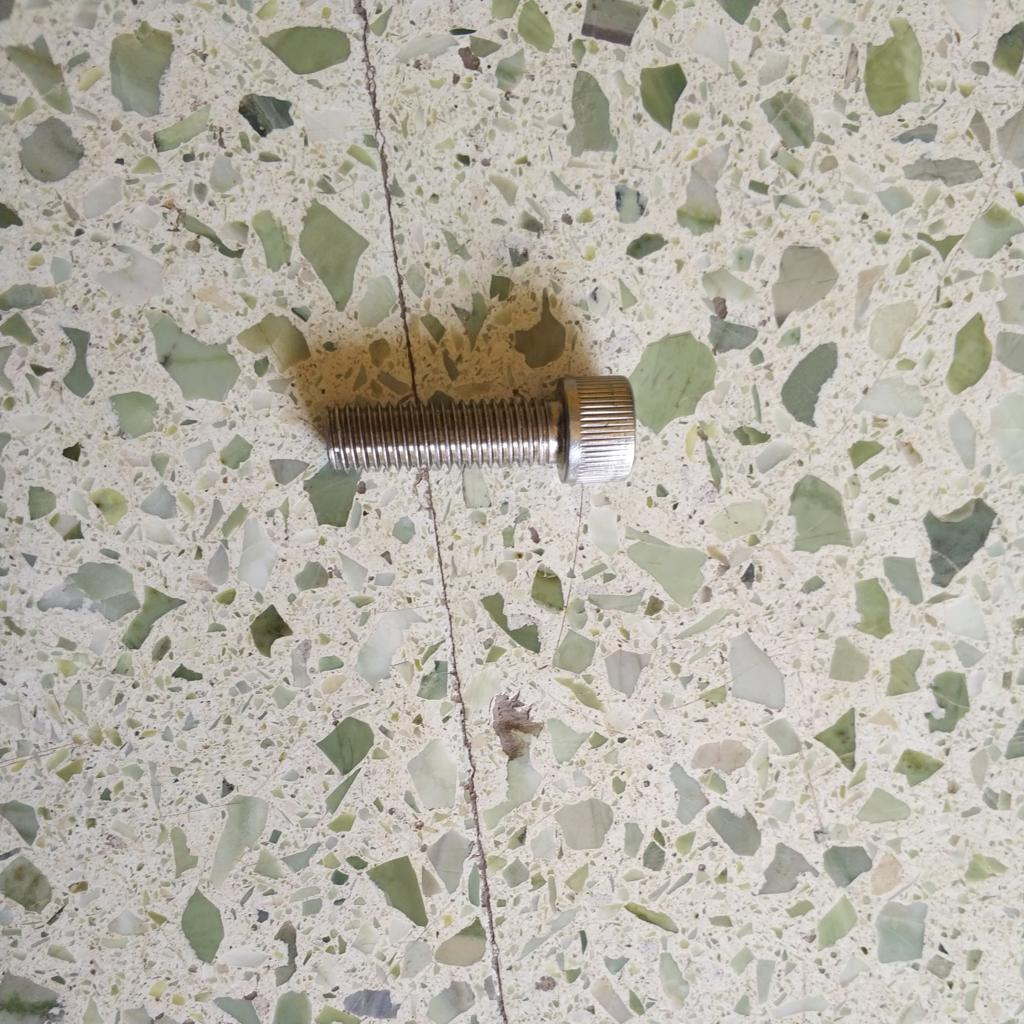screwtype1silver: (318, 368, 645, 497)
